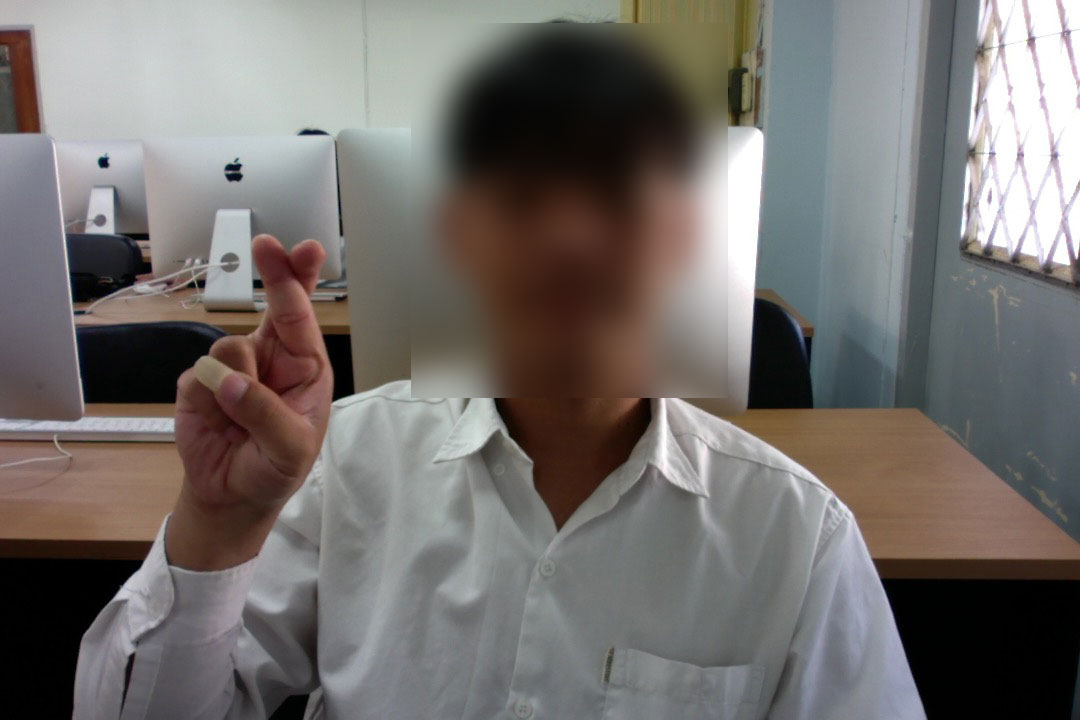rao: (158, 233, 342, 509)
